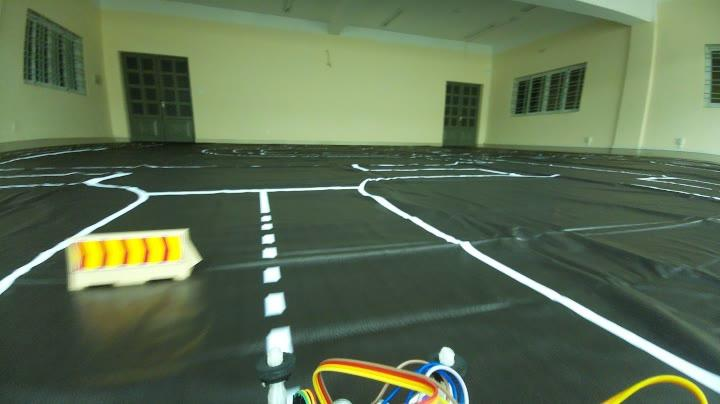roadblock: (52, 238, 206, 286)
